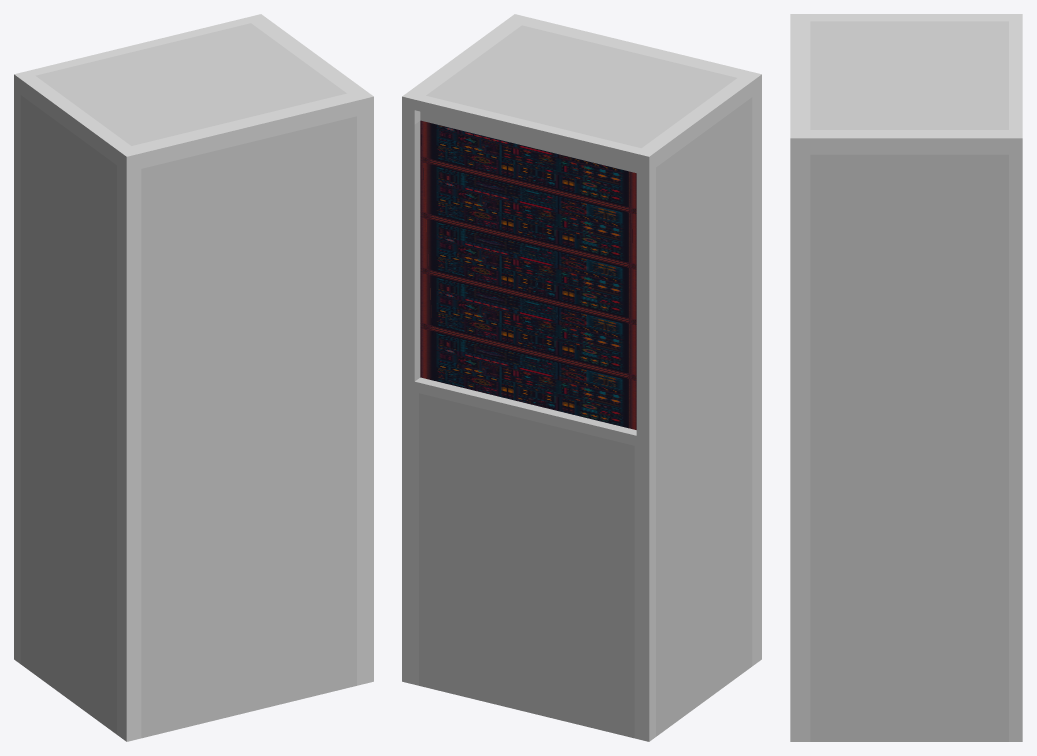
Rendered from ComputerRack02.fbx.
The picture shows the model from 3 angles, left to right: view 1: azimuth 30°, elevation 25°; view 2: azimuth 150°, elevation 25°; view 3: azimuth 270°, elevation 25°; orthographic projection. The views are drawn at different scales.
Visible parts, largest first — view 1: Ballastkontrolle; view 2: Ballastkontrolle; view 3: Ballastkontrolle.
Boxes of the visible parts, <box> form: Ballastkontrolle: <box>14,14,373,741</box>; Ballastkontrolle: <box>402,14,761,741</box>; Ballastkontrolle: <box>790,14,1022,741</box>.
Size of the model in its own units: 40.72 by 92.12 by 32.18.
